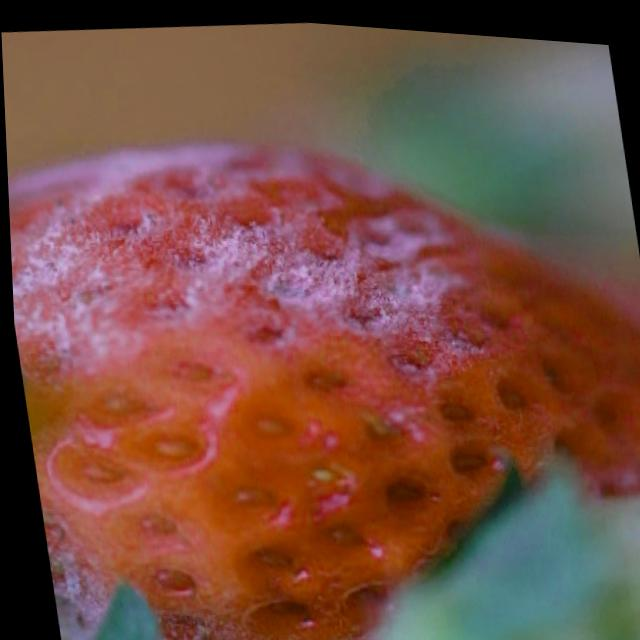Powdery Mildew Fruit: (6, 138, 529, 640)
